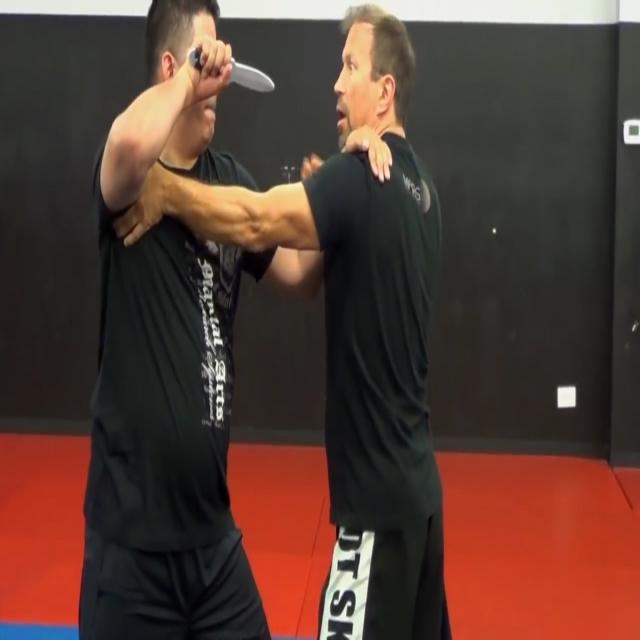knife: (230, 49, 279, 101)
